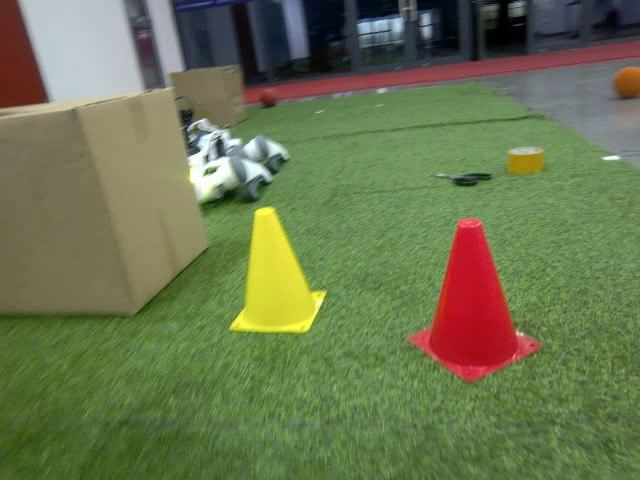red_barrel: (406, 216, 544, 386)
yellow_barrel: (227, 204, 329, 344)
